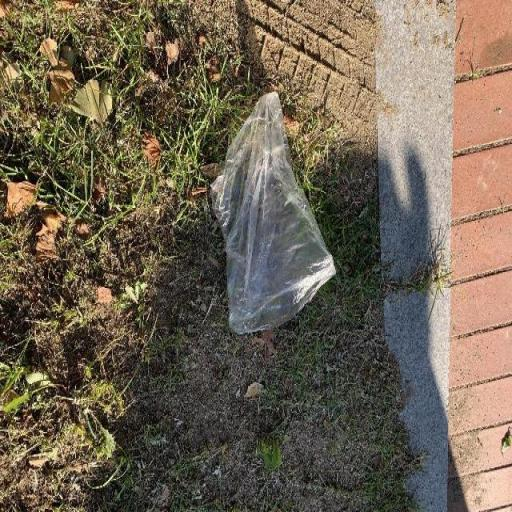plastic-bag: (205, 86, 341, 336)
